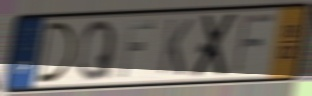D: (35, 21, 77, 86)
F: (231, 12, 278, 77), (116, 19, 157, 80)
K: (156, 17, 196, 78)
Q: (76, 18, 118, 84)
X: (189, 11, 240, 81)
